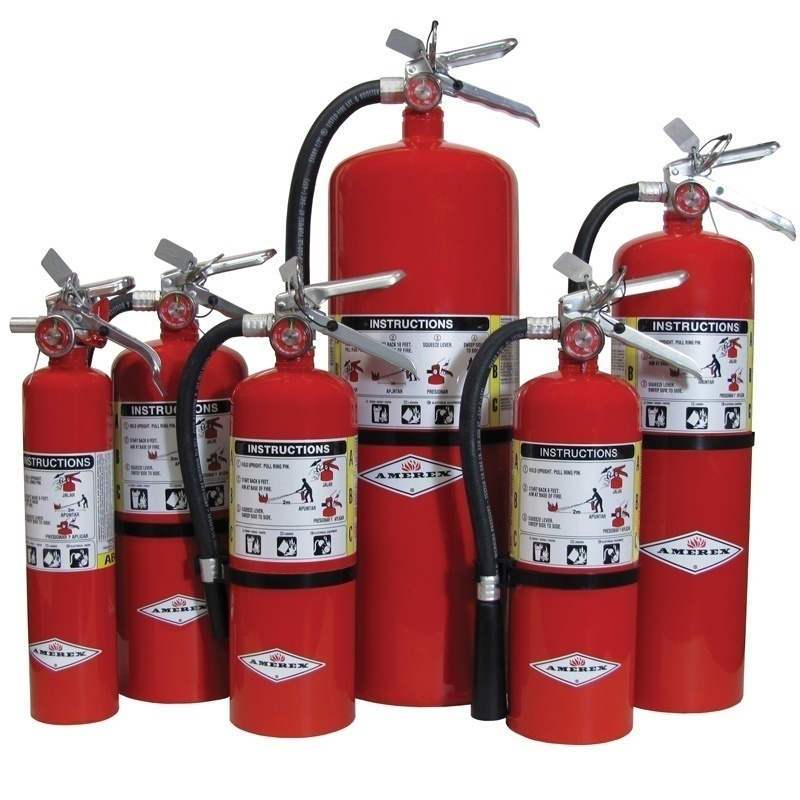fire_extinguisher: (281, 20, 541, 710), (563, 117, 797, 714), (458, 251, 706, 746), (175, 254, 417, 738), (101, 240, 271, 705), (8, 248, 159, 726), (109, 288, 250, 705)
